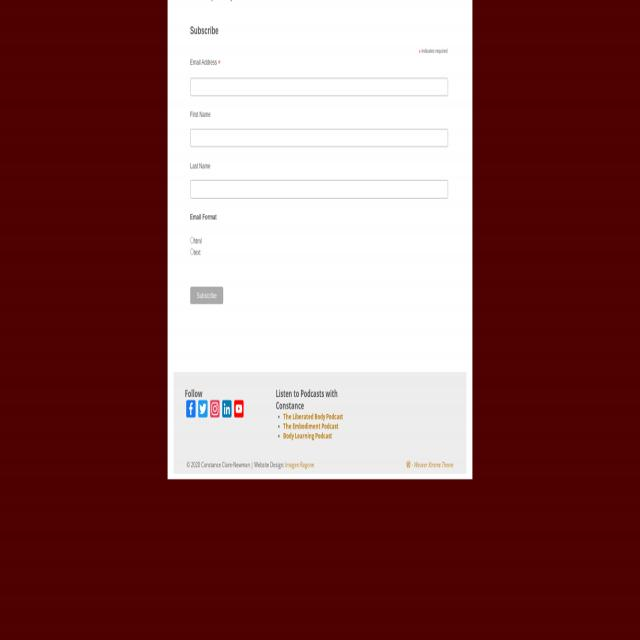button: (190, 288, 224, 304), (186, 401, 196, 418), (198, 401, 208, 418), (210, 401, 220, 418), (222, 401, 232, 418), (234, 401, 244, 418)
field: (190, 130, 448, 148), (190, 180, 448, 198), (190, 78, 448, 96), (190, 237, 194, 246), (190, 248, 194, 256)
